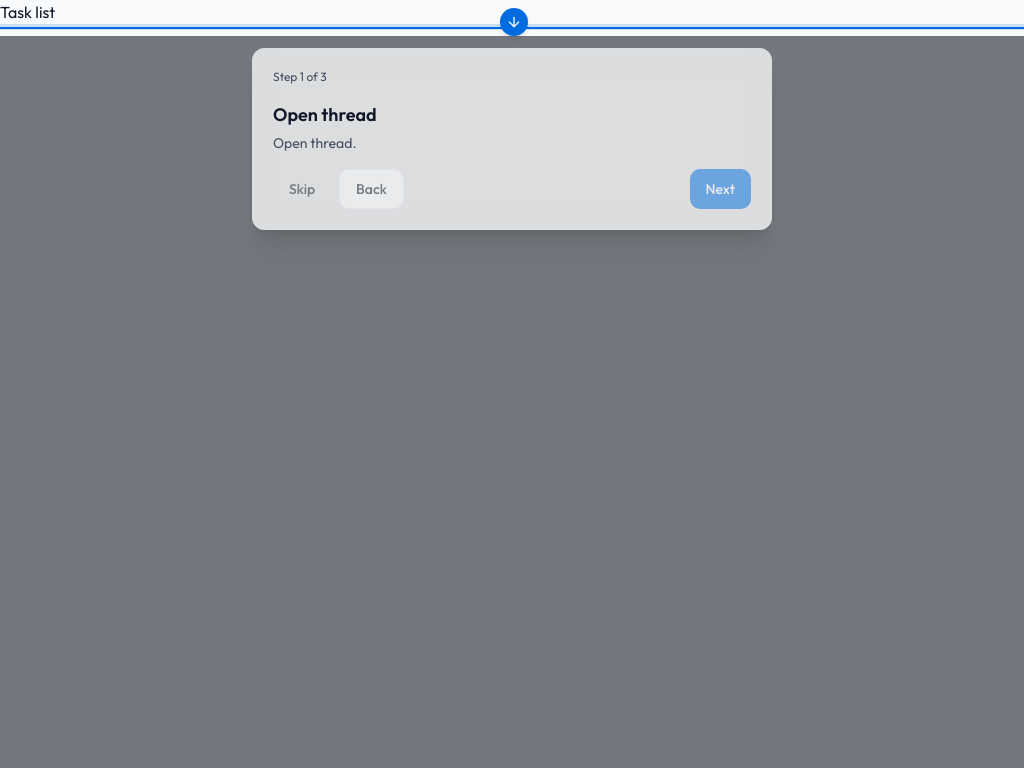
Scenario: OnboardingGuide breadcrumb transitions › does not render breadcrumb recovery prompt when target is unavailable
Click the text "Task list": (512, 12) [0,0,1023,24]
Wait 1800 ms
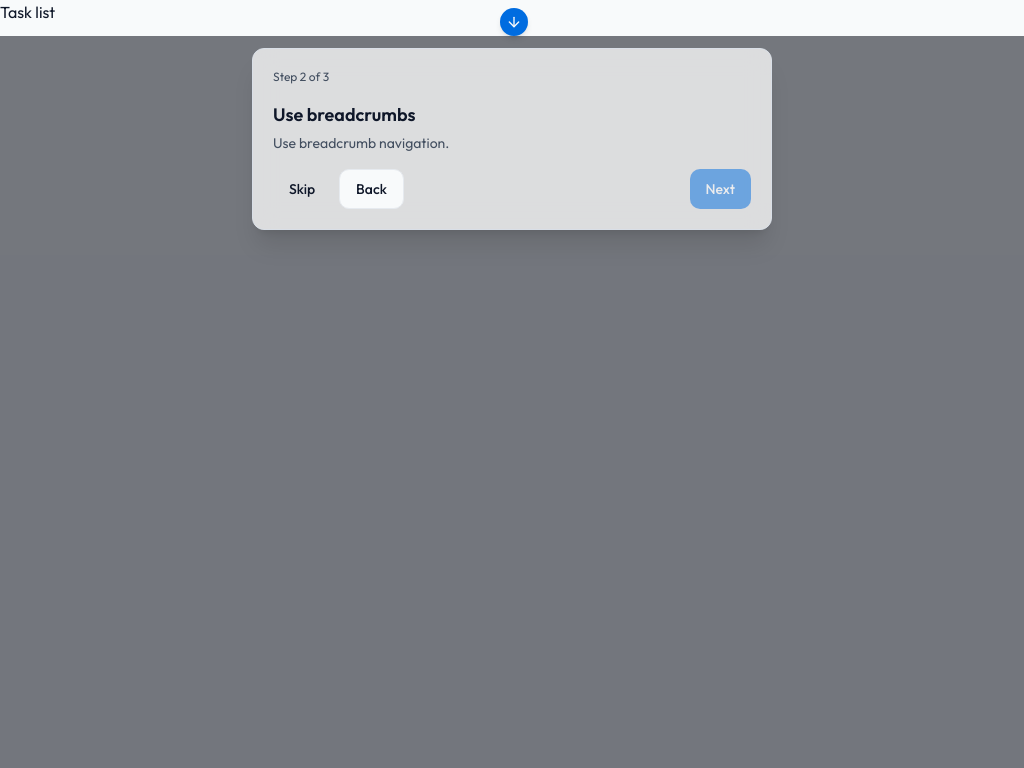
Expected: the dialog with test id "onboarding-guide-dialog" is shown, [252,48,772,230]
Expected: the heading "Use breadcrumbs" is shown, [273,103,416,126]
